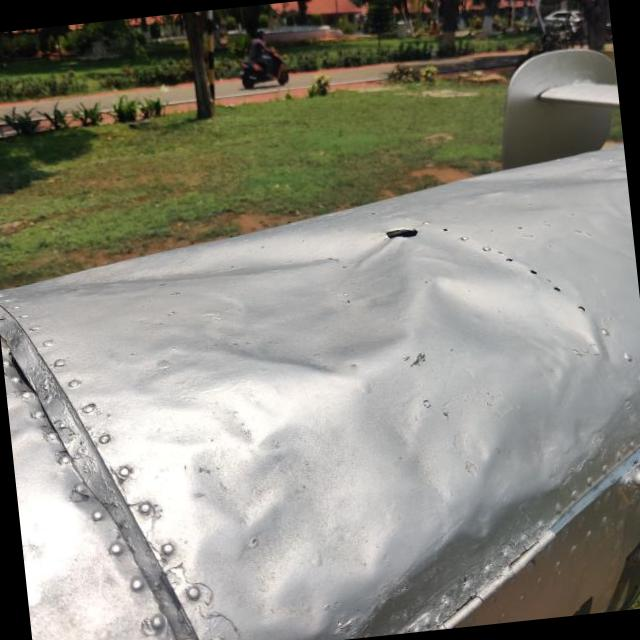Dent: (204, 237, 434, 395), (418, 240, 609, 394), (182, 411, 323, 559)
